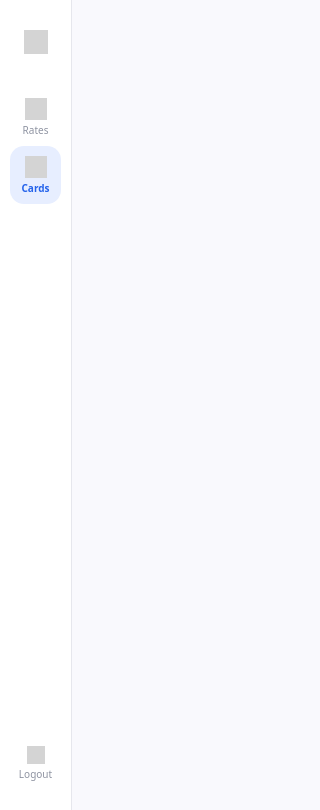
Test: Sidebar › expands and collapses, and remembers the choice
Click the button named "Expand menu": [36, 42] box [10,20,61,64]
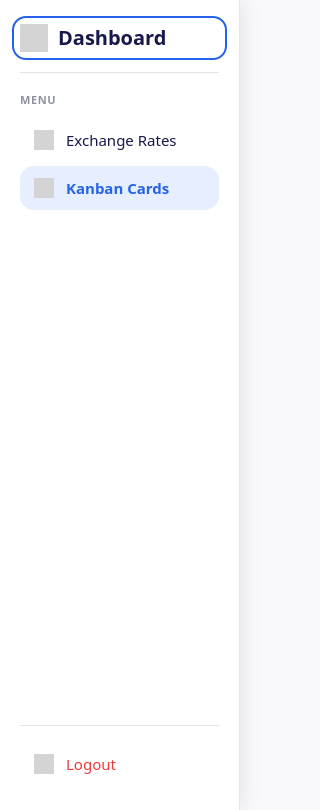
Expected: the button with aria-label "Collapse menu" is expanded
Click the button with aria-label "Collapse menu": [120, 38] box [12,16,227,60]
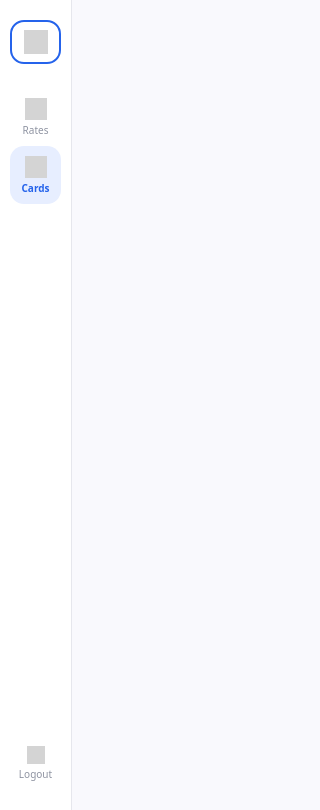
Expected: the button named "Expand menu" is collapsed, [10,20,61,64]
